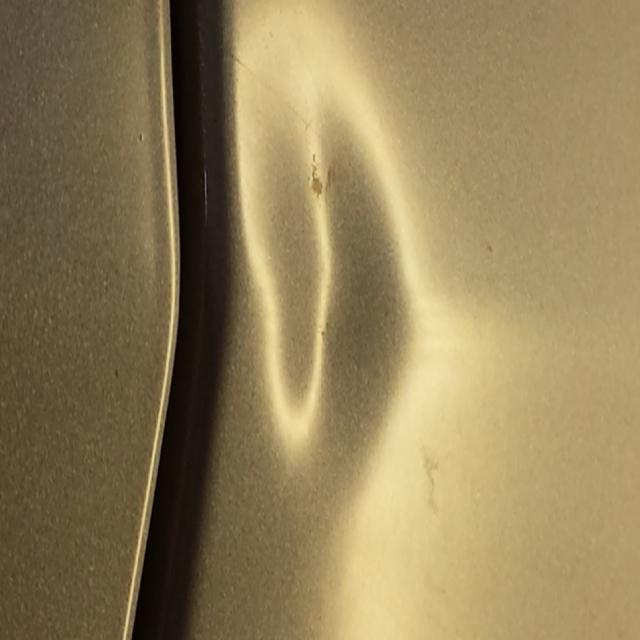dents: (215, 26, 433, 506)
